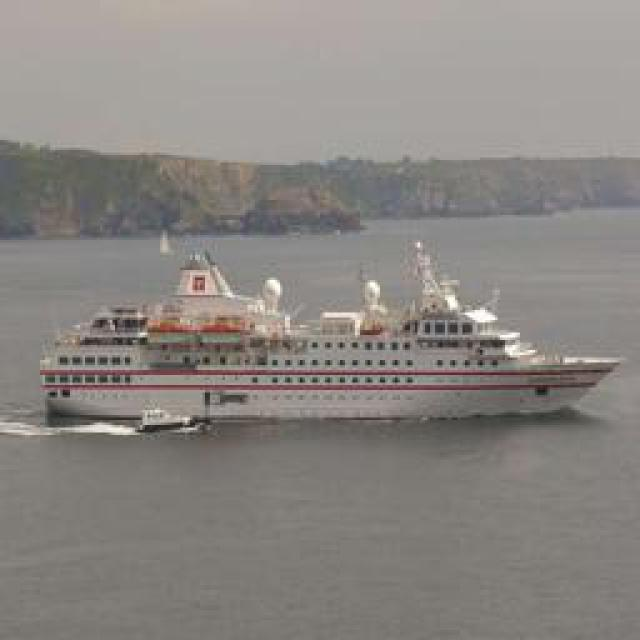Ship: (22, 246, 620, 431)
